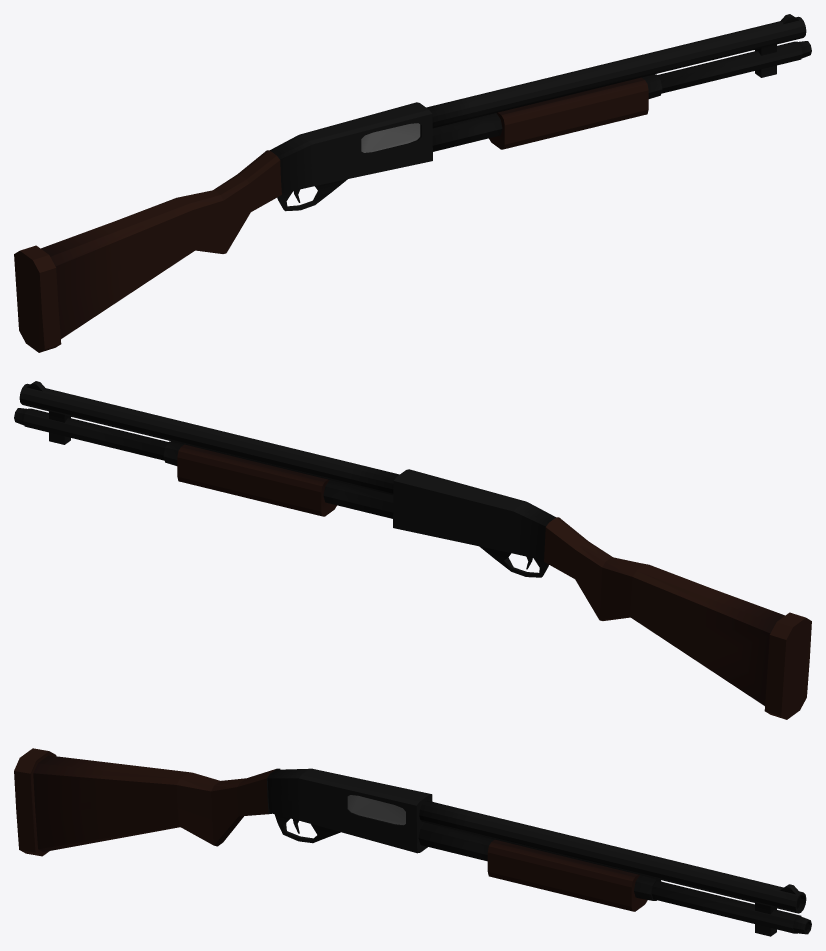
The model's file is z-shotgun-01.glb.
3 views of the same model, one above another, from view 1: azimuth 30°, elevation 25°; view 2: azimuth 150°, elevation 25°; view 3: azimuth 330°, elevation 25° (orthographic).
Parts seen in each view (by area): view 1: body; view 2: body; view 3: body.
Boxes of the visible parts, x1=… form: body: x1=14, y1=14, x2=811, y2=352; body: x1=14, y1=381, x2=811, y2=719; body: x1=14, y1=748, x2=811, y2=936.
Size of the model in its own units: 1 by 0.1804 by 0.0569.
